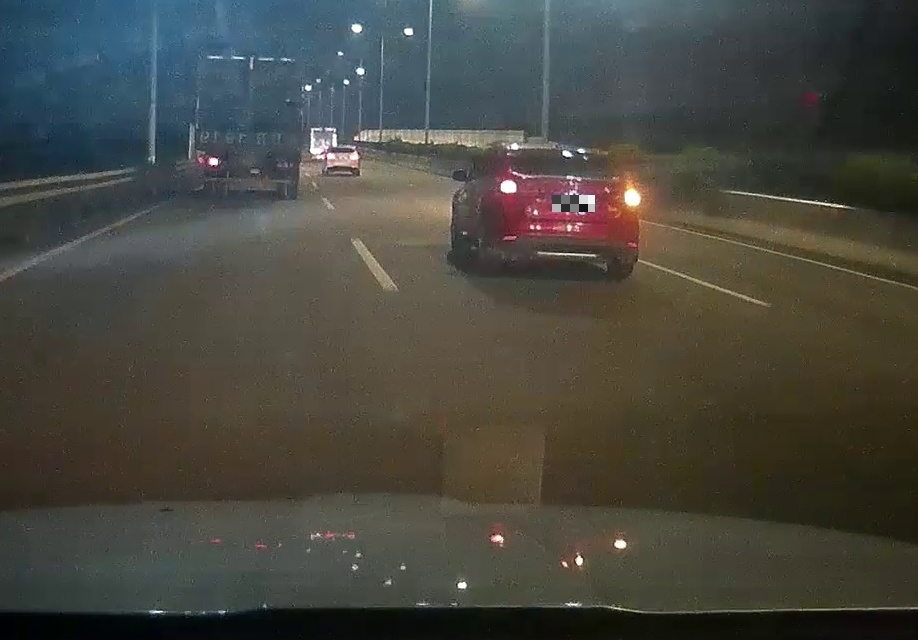L_light: (498, 179, 522, 196), (203, 157, 222, 166)
R_light: (619, 188, 640, 206), (276, 160, 294, 168)
T_light: (241, 60, 260, 67), (556, 149, 577, 155)
night-left: (198, 55, 302, 200)
night-right: (491, 143, 641, 277)
plate_1: (552, 195, 595, 212)
